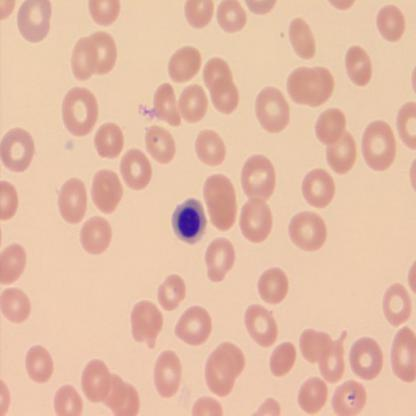NRC: (168, 198, 209, 245)
